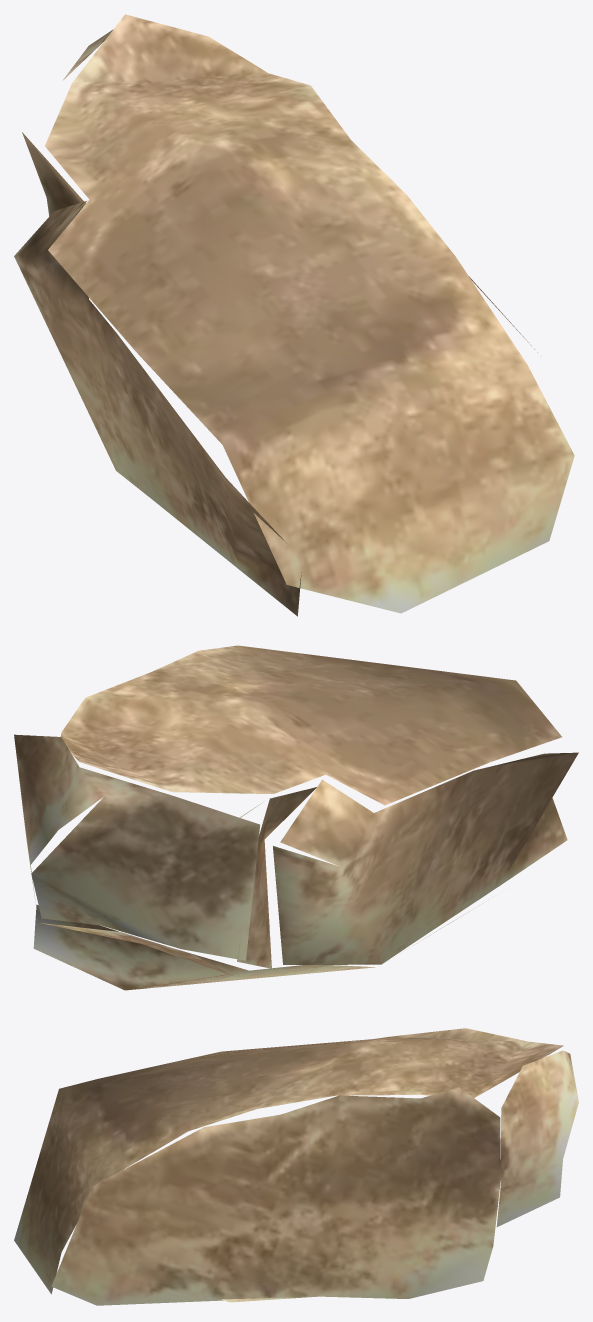
File: rock_small.glb
3 views of the same model, one above another, from view 1: azimuth 30°, elevation 25°; view 2: azimuth 150°, elevation 25°; view 3: azimuth 270°, elevation 25° (orthographic). The views are drawn at different scales.
Parts seen in each view (by area): view 1: rock_small; view 2: rock_small; view 3: rock_small.
Part boxes in pixels (box(x1,y1,x2,y2)): rock_small: box(14, 14, 574, 616); rock_small: box(14, 645, 578, 990); rock_small: box(14, 1028, 578, 1305).
Bounding box in the file's own units: 0.3817 × 0.3212 × 0.713.
Materials: 1 (1 with a texture image).
